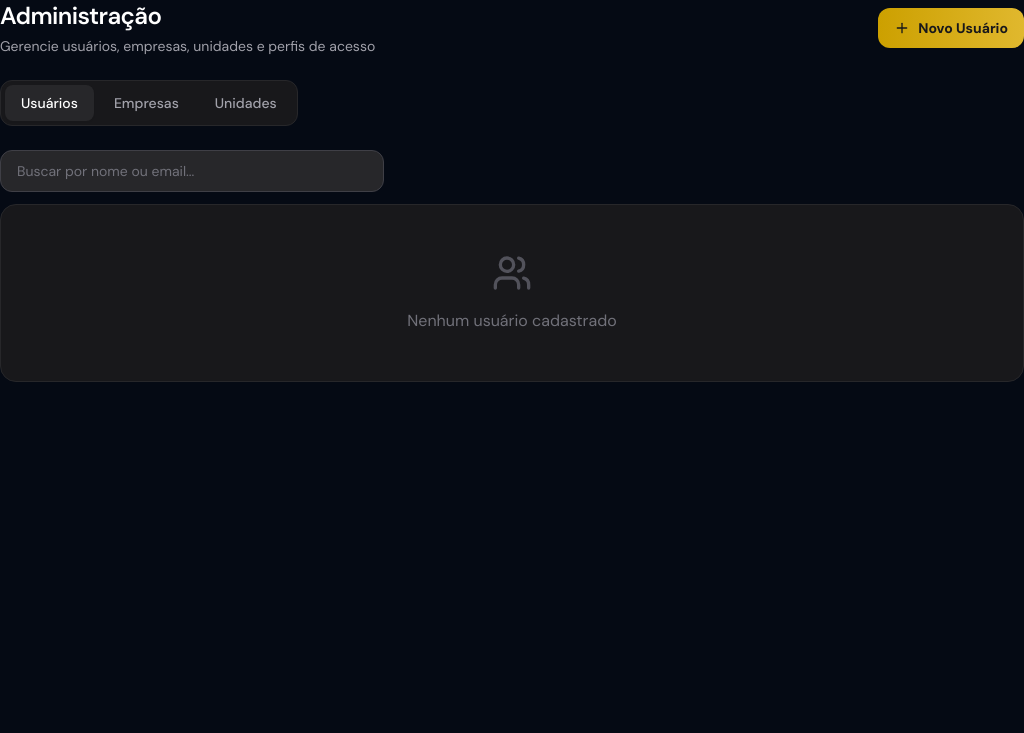
Scenario: AdminPage portal — config de empresa (F1 unificação) › resync com timeout do edge (504) mostra info de segundo plano, nao erro
The width and height of the screenshot is (1024, 733).
Click the button "Empresas".
click(146, 103)  # box [98, 85, 195, 121]
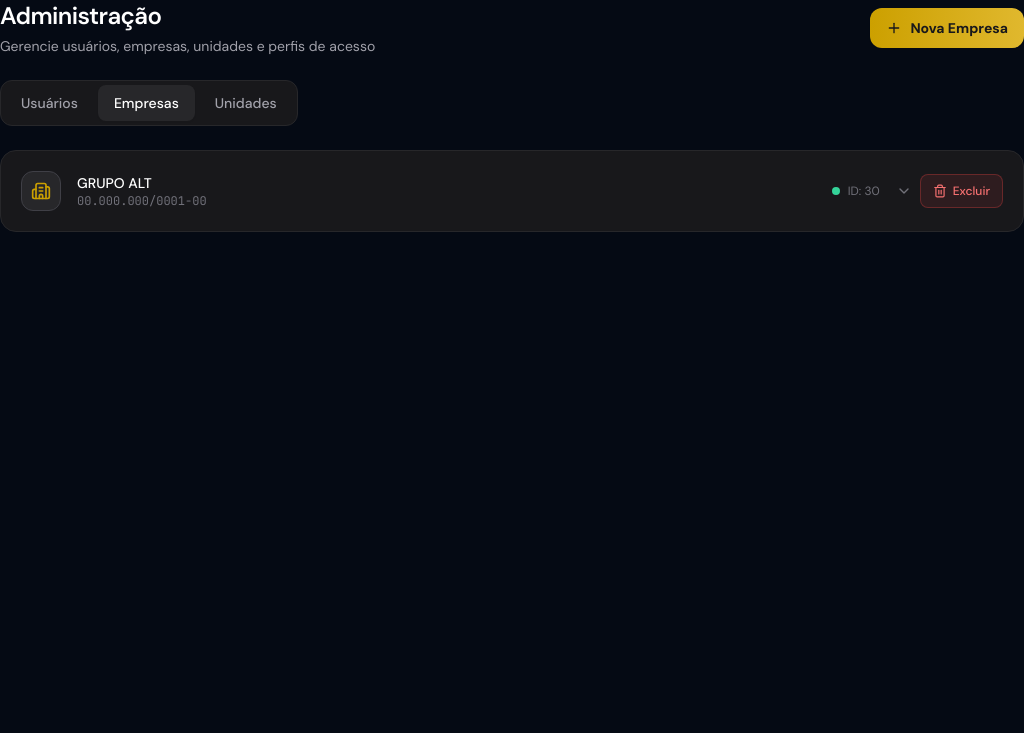
Click the button with aria-label "Expandir GRUPO ALT".
click(41, 191)  # box [21, 171, 912, 211]
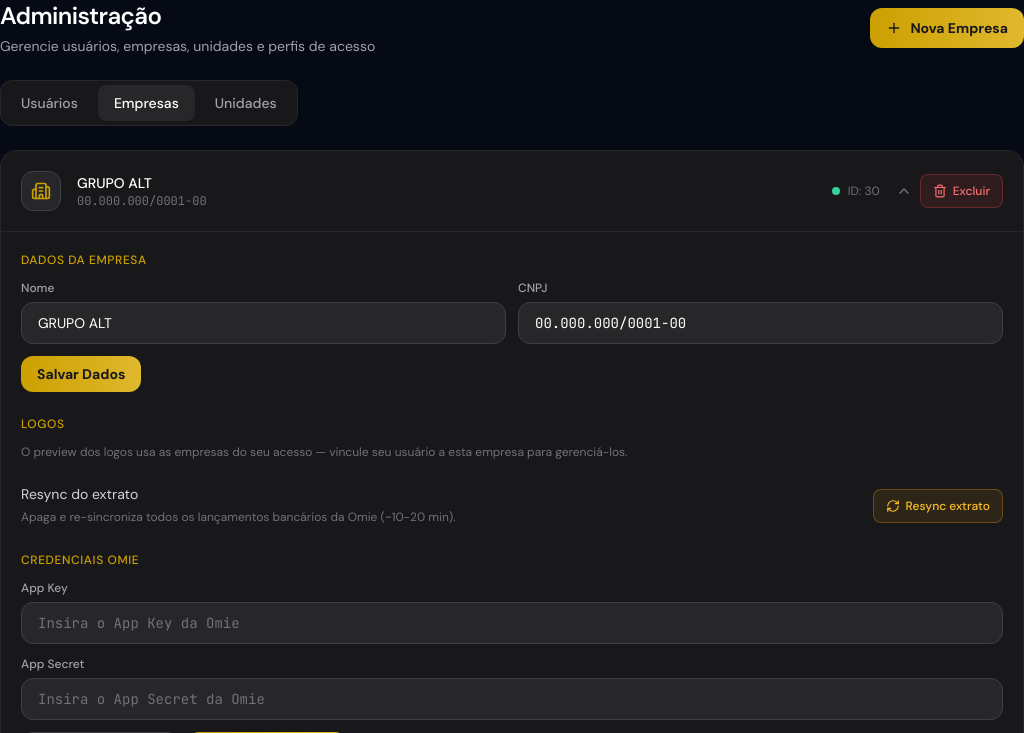
Click the button with aria-label "Resync extrato GRUPO ALT".
click(938, 506)  # box [873, 489, 1003, 523]
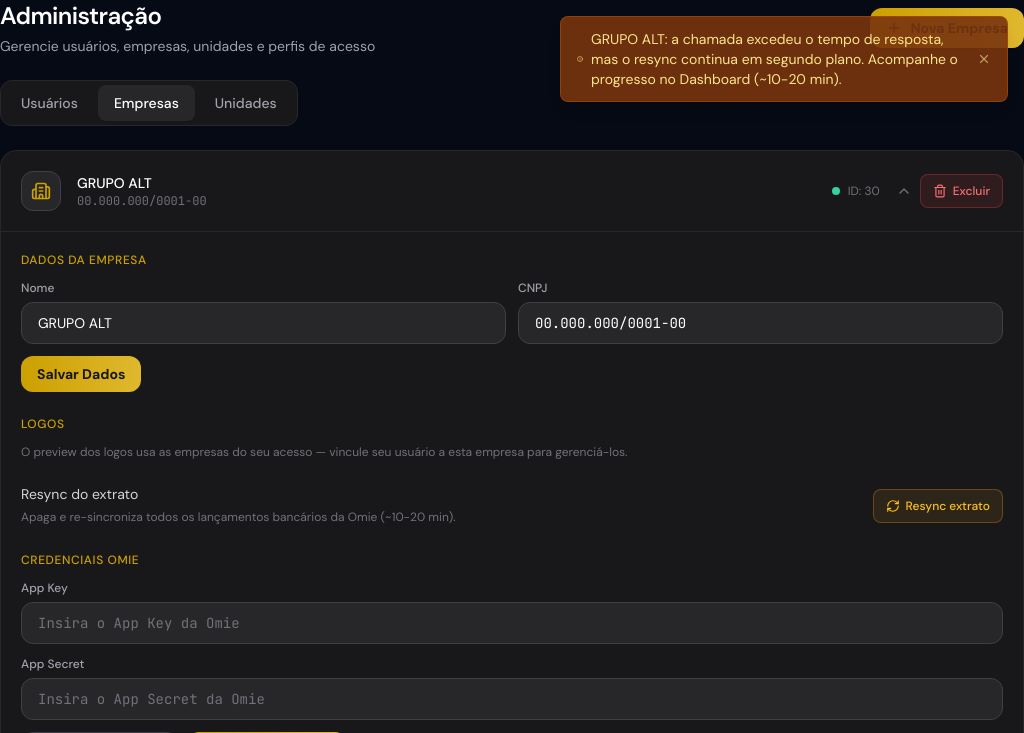
Expected: the message shows "segundo plano", [591, 30, 958, 88]
